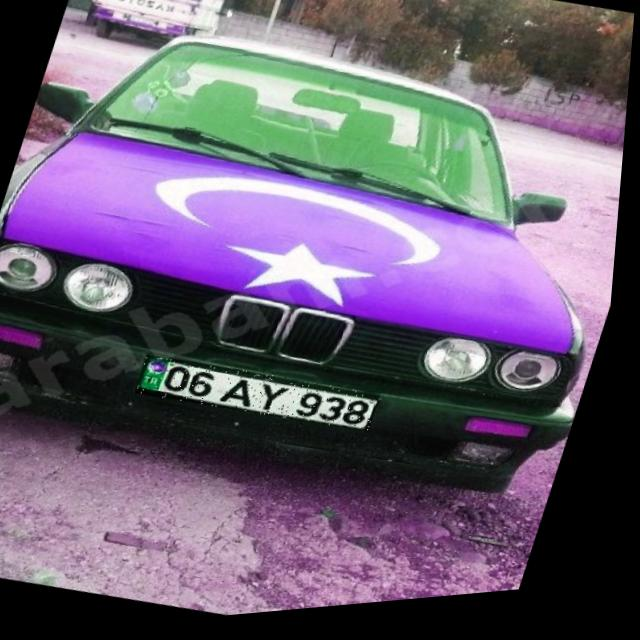license_plate: (138, 341, 392, 455)
